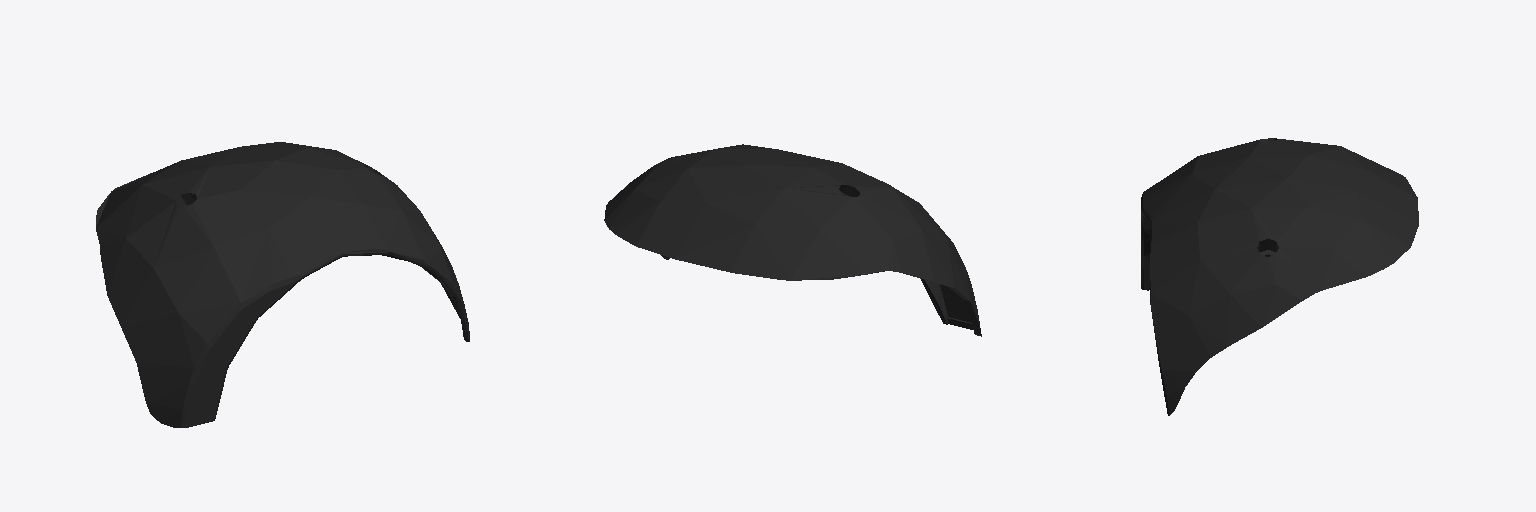
Rendered from asm0001_vrml_06_prt.obj.
The picture shows the model from 3 angles: view 1: azimuth 30°, elevation 25°; view 2: azimuth 150°, elevation 25°; view 3: azimuth 270°, elevation 25°; orthographic projection.
Visible parts, largest first — view 1: ShapeIndexedFaceSet; view 2: ShapeIndexedFaceSet; view 3: ShapeIndexedFaceSet.
Boxes of the visible parts, x1=… form: ShapeIndexedFaceSet: x1=96, y1=142, x2=469, y2=427; ShapeIndexedFaceSet: x1=604, y1=144, x2=981, y2=336; ShapeIndexedFaceSet: x1=1141, y1=138, x2=1418, y2=415.
Size of the model in its own units: 2.79 by 1.45 by 2.08.